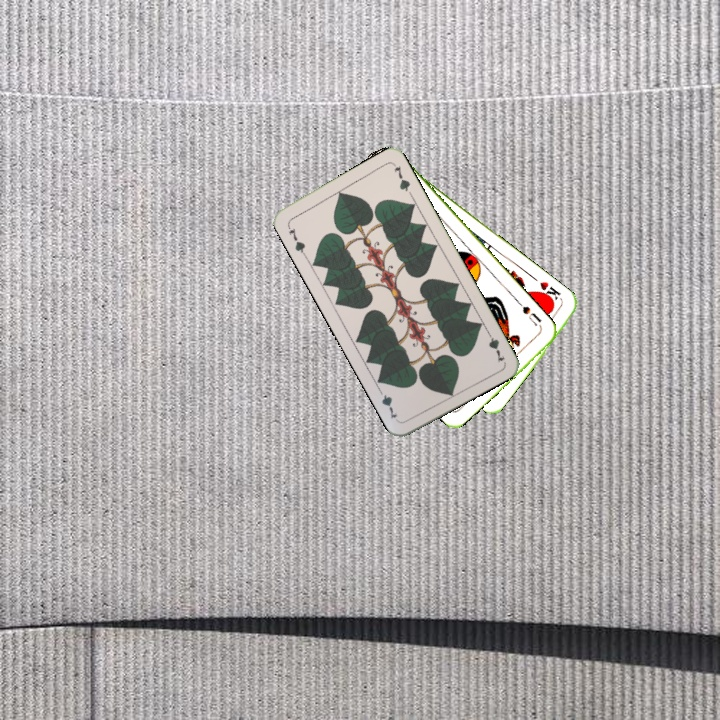G7: (482, 326, 507, 365), (283, 221, 308, 258)
HK: (534, 277, 563, 306)
SU: (518, 302, 544, 329)
